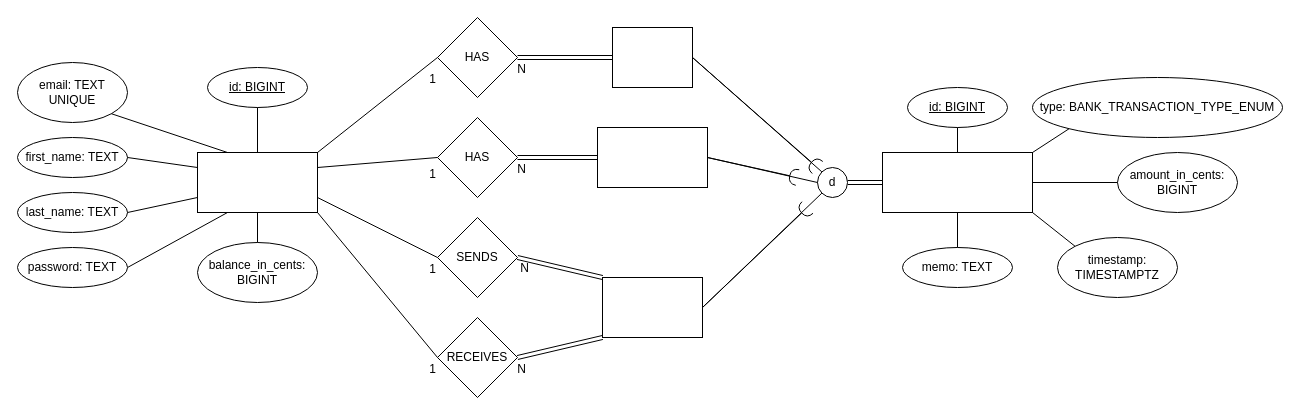
The diagram is 1300 pixels wide and 415 high, and some of its shapes have lost their labels. The centre of each missing label's shape, as x and y in pixels:
"ACCOUNT" belongs at (257,182).
"BANK_TRANSACTION" belongs at (957,182).
"DEPOSIT" belongs at (652,57).
"TRANSFER" belongs at (652,307).
"WITHDRAWAL" belongs at (652,157).
